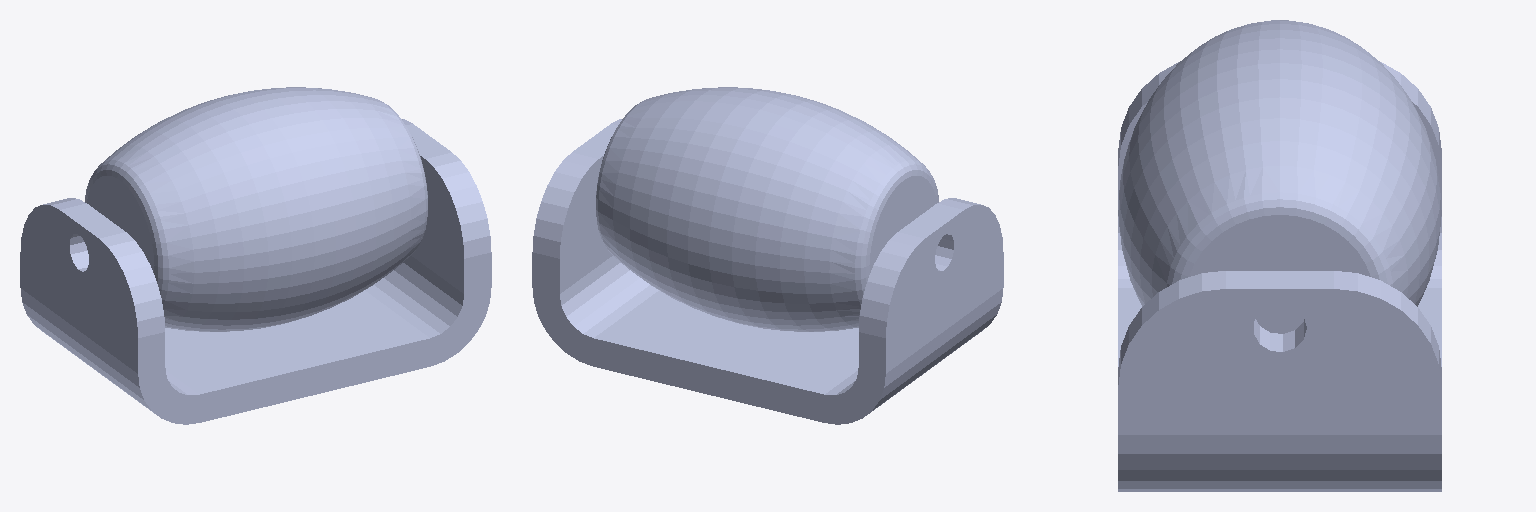
URDF robot description (Assem1):
<robot
  name="Assem1">
  <link
    name="base_link">
    <inertial>
      <origin
        xyz="2.1798E-18 0.0037952 -7.83E-19"
        rpy="0 0 0" />
      <mass
        value="0.0539" />
      <inertia
        ixx="1.0144E-05"
        ixy="1.469E-21"
        ixz="4.8288E-22"
        iyy="3.6677E-05"
        iyz="4.5997E-22"
        izz="3.4133E-05" />
    </inertial>
    <visual>
      <origin
        xyz="0 0 0"
        rpy="0 0 0" />
      <geometry>
        <mesh
          filename="package://Assem1/meshes/base_link.STL" />
      </geometry>
      <material
        name="">
        <color
          rgba="0.79216 0.81961 0.93333 1" />
      </material>
    </visual>
    <collision>
      <origin
        xyz="0 0 0"
        rpy="0 0 0" />
      <geometry>
        <mesh
          filename="package://Assem1/meshes/base_link.STL" />
      </geometry>
    </collision>
  </link>
  <link
    name="roller">
    <inertial>
      <origin
        xyz="2.8436E-19 1.2143E-17 -6.9389E-18"
        rpy="0 0 0" />
      <mass
        value="0.053952" />
      <inertia
        ixx="8.2258E-06"
        ixy="1.7632E-38"
        ixz="2.8359E-23"
        iyy="1.3501E-05"
        iyz="0"
        izz="1.3501E-05" />
    </inertial>
    <visual>
      <origin
        xyz="0 0 0"
        rpy="0 0 0" />
      <geometry>
        <mesh
          filename="package://Assem1/meshes/roller.STL" />
      </geometry>
      <material
        name="">
        <color
          rgba="0.79216 0.81961 0.93333 1" />
      </material>
    </visual>
    <collision>
      <origin
        xyz="0 0 0"
        rpy="0 0 0" />
      <geometry>
        <mesh
          filename="package://Assem1/meshes/roller.STL" />
      </geometry>
    </collision>
  </link>
  <joint
    name="roller_joint"
    type="continuous">
    <origin
      xyz="0 0 0.02032"
      rpy="0 0 0" />
    <parent
      link="base_link" />
    <child
      link="roller" />
    <axis
      xyz="1 0 0" />
  </joint>
</robot>

--- Facts derived from the render (not from the file) ---
3 views of the same robot in one strip: view 1: azimuth 30°, elevation 25°; view 2: azimuth 150°, elevation 25°; view 3: azimuth 270°, elevation 25° (orthographic).
Model Assem1 with 2 links and 1 joints (1 continuous), rooted at base_link, posed all joints at 0.
Links seen in each view (by area): view 1: roller, base_link; view 2: roller, base_link; view 3: base_link, roller.
Link boxes in pixels (x1,y1,x2,y2): roller: (85, 87, 427, 331); base_link: (20, 119, 491, 424); roller: (596, 87, 938, 331); base_link: (532, 119, 1003, 424); base_link: (1118, 62, 1441, 491); roller: (1118, 20, 1441, 333).
Bounding box of the posed robot: 0.066 × 0.0381 × 0.0444 m (x, y, z).
2 mesh visuals loaded from 2 distinct referenced files (2 binary STL).
